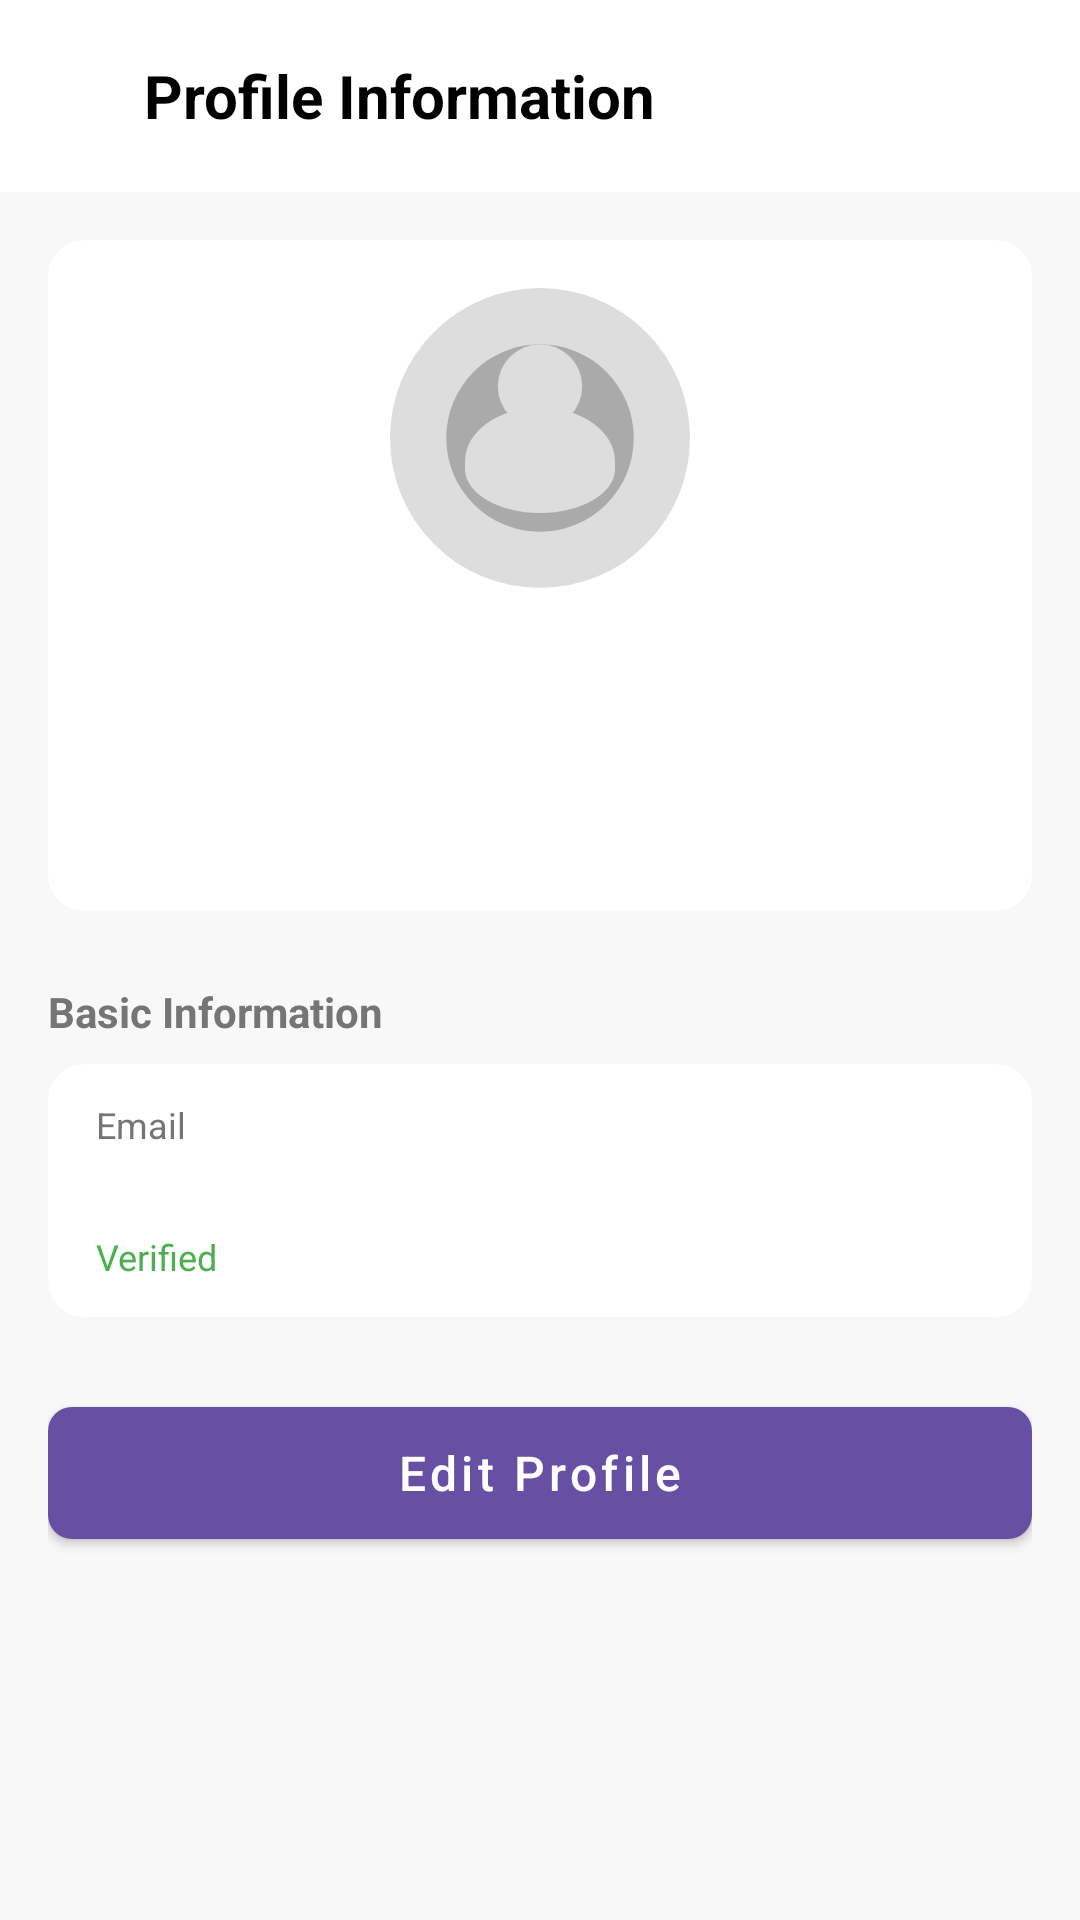

Icons on this 1080 x 1920 Android screen, each with its box as (x1, y1, x2, y2):
profile: (390, 288, 690, 588)
